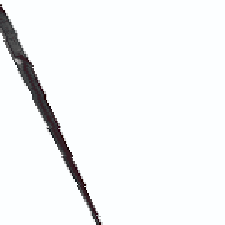Wrench: (1, 4, 143, 225), (2, 5, 3, 12)
